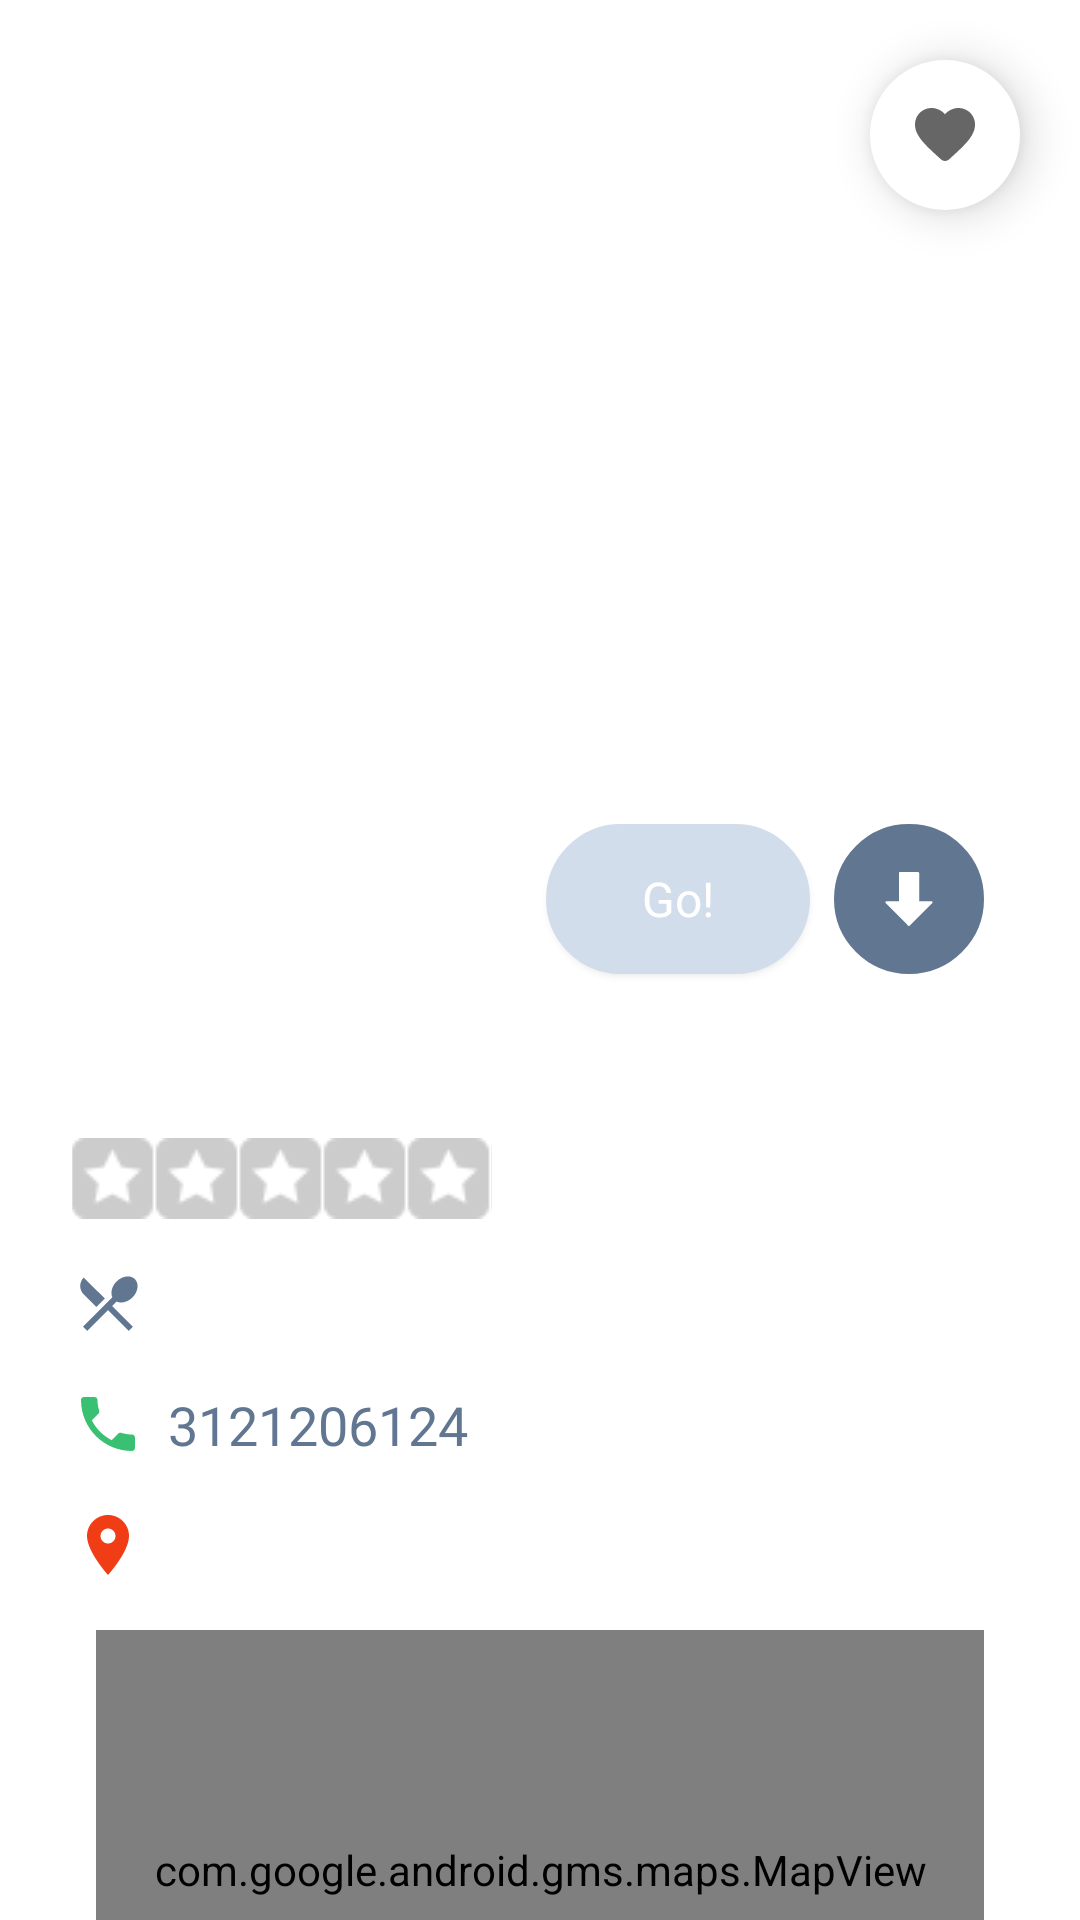

Locate icon controls on the screen. Image size 1080 × 1920, boxes as rect(x1, y1, x2, y2).
arrow down: rect(834, 824, 984, 974)
favorite: rect(915, 107, 1020, 201)
